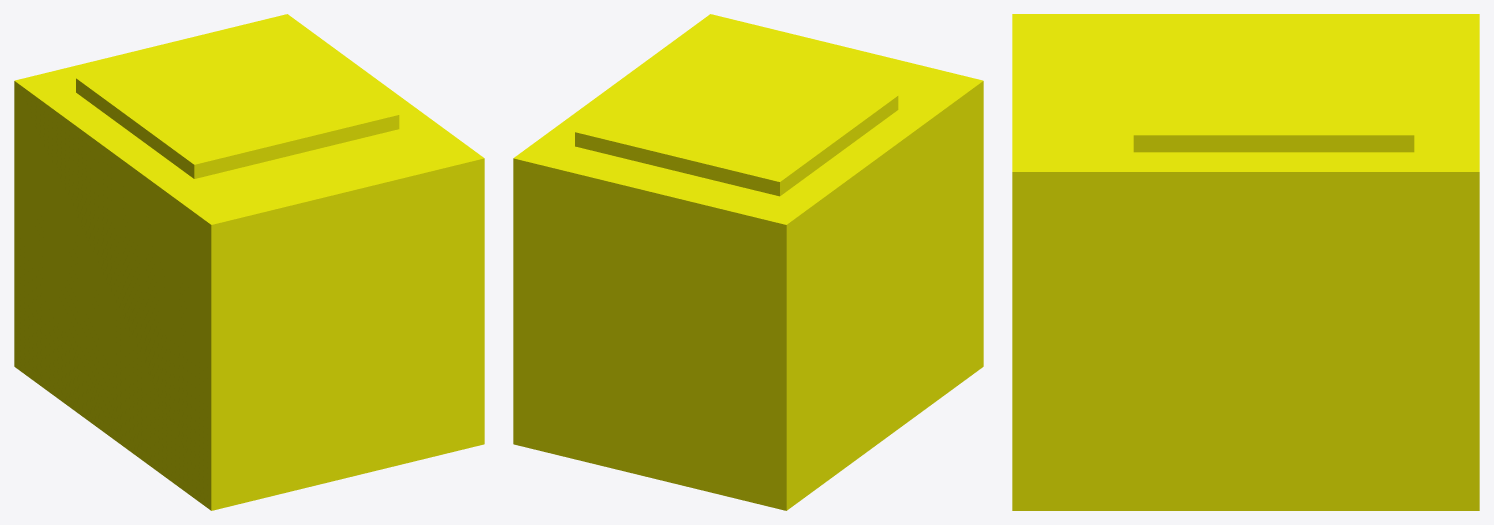
3 renders of one model, left to right at view 1: azimuth 30°, elevation 25°; view 2: azimuth 150°, elevation 25°; view 3: azimuth 270°, elevation 25°, orthographic. The views are drawn at different scales.
Parts seen in each view (by area): view 1: box (×2); view 2: box (×2); view 3: box (×2).
Boxes of the visible parts, x1=… form: box (×2): x1=14, y1=14, x2=484, y2=510; box (×2): x1=513, y1=14, x2=983, y2=510; box (×2): x1=1012, y1=14, x2=1479, y2=510.
Bounding box in the file's own units: 0.4 × 0.42 × 0.5.
